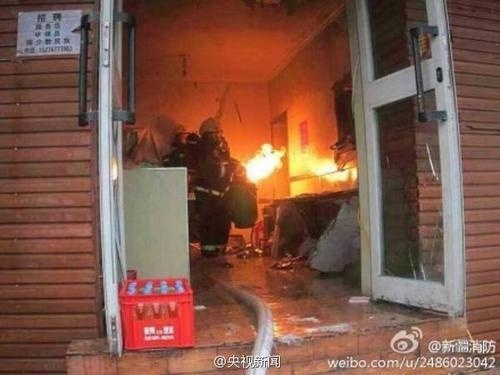fire: (243, 143, 285, 180)
